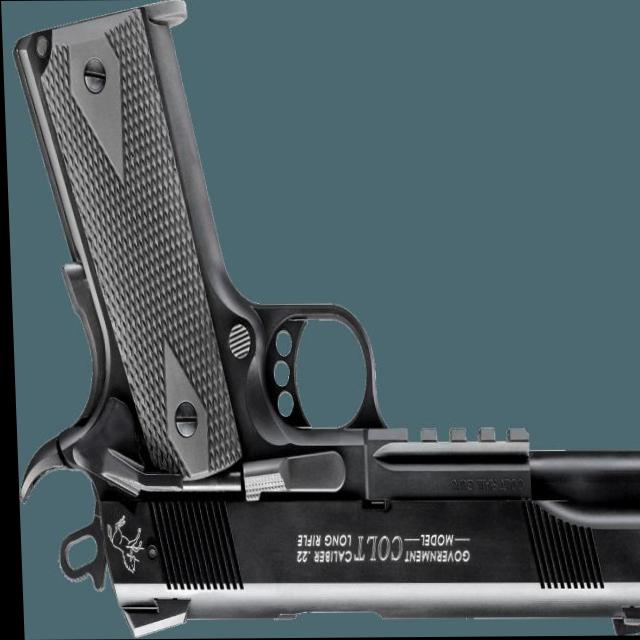handgun: (1, 0, 640, 638)
